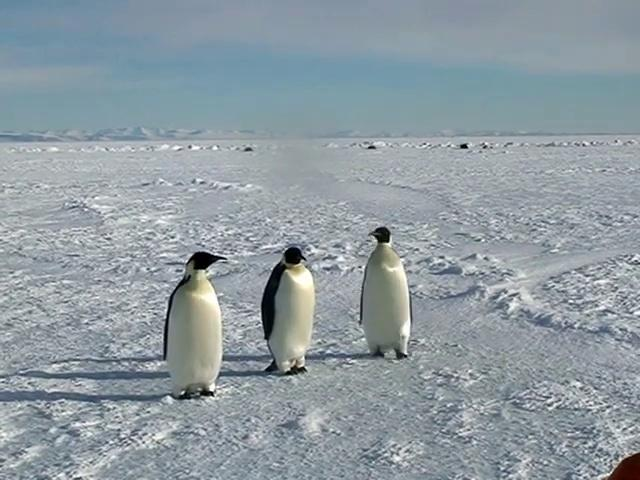animal: (360, 227, 411, 358)
